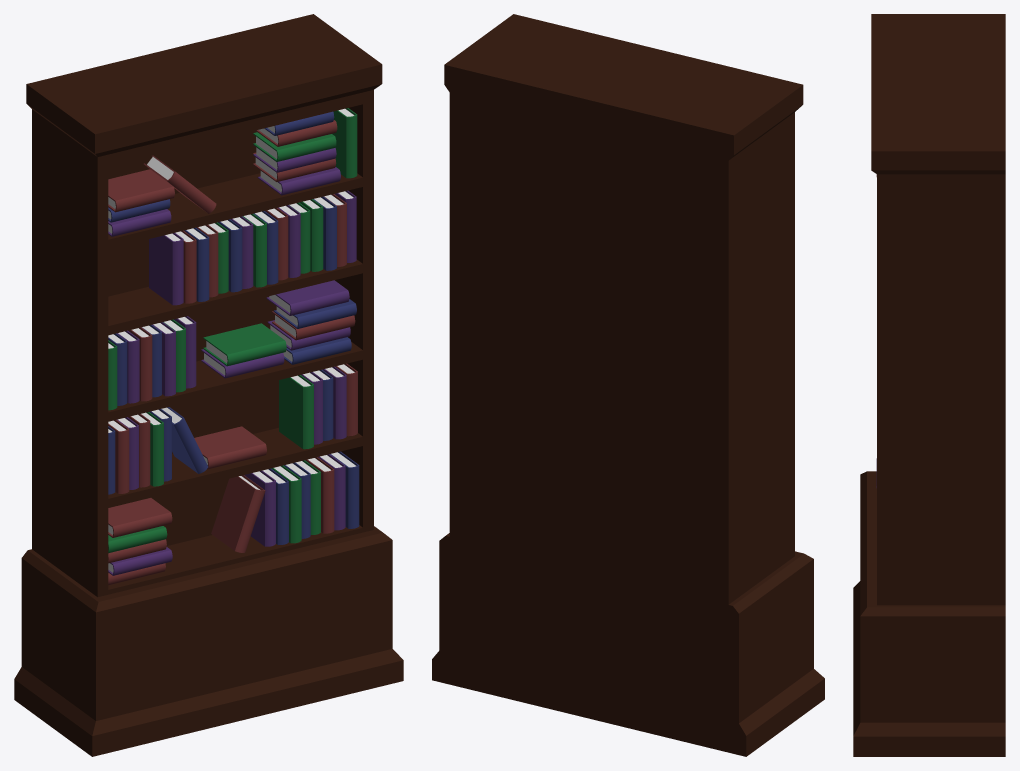
Rendered from Bibliotheque.fbx.
3 views of the same model, side by side, from view 1: azimuth 30°, elevation 25°; view 2: azimuth 150°, elevation 25°; view 3: azimuth 270°, elevation 25° (orthographic). The views are drawn at different scales.
Visible parts, largest first — view 1: Bibliotheque; view 2: Bibliotheque; view 3: Bibliotheque.
Boxes of the visible parts, x1,y1,x2,y2 form: Bibliotheque: (14, 14, 403, 756); Bibliotheque: (432, 14, 824, 756); Bibliotheque: (853, 14, 1005, 756).
Size of the model in its own units: 146 by 275 by 63.28.
